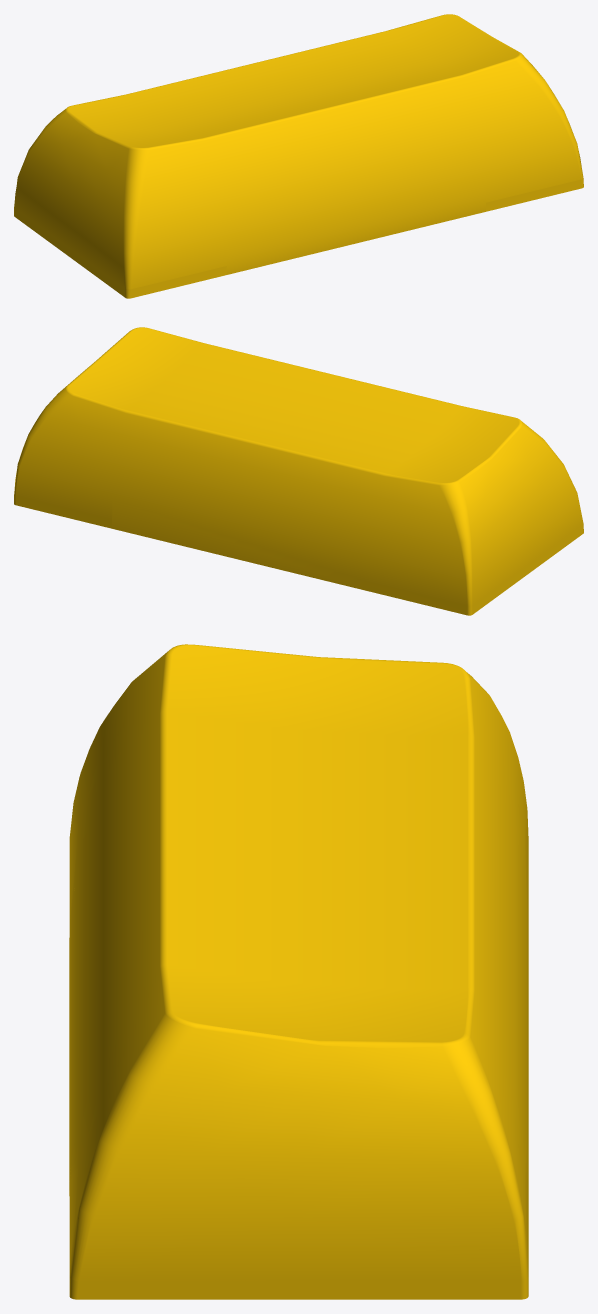
Rendered from KAT_2_25u_r4.glb.
3 views of the same model, one above another, from view 1: azimuth 30°, elevation 25°; view 2: azimuth 150°, elevation 25°; view 3: azimuth 270°, elevation 25° (orthographic). The views are drawn at different scales.
Visible parts, largest first — view 1: Object.125; view 2: Object.125; view 3: Object.125.
Boxes of the visible parts, x1=… form: Object.125: x1=14, y1=14, x2=583, y2=298; Object.125: x1=14, y1=327, x2=583, y2=615; Object.125: x1=69, y1=644, x2=528, y2=1299.
Size of the model in its own units: 41.95 by 10.68 by 18.21.
